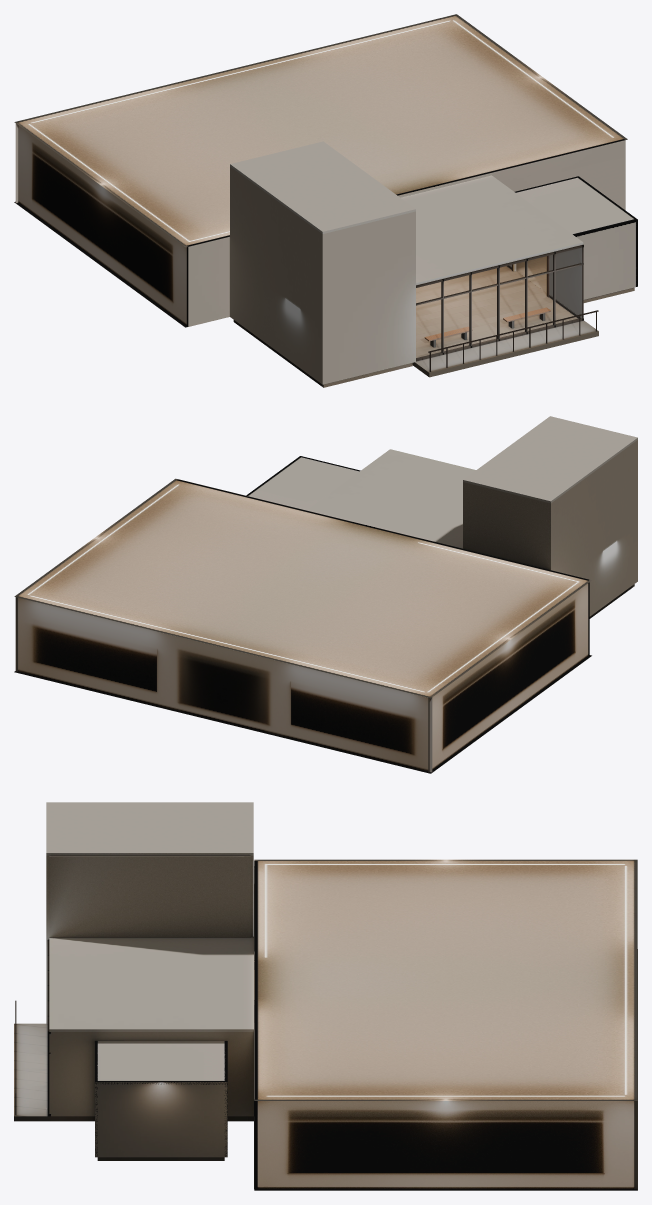
The model's file is hall-baked-mobile.glb.
3 views of the same model, one above another, from view 1: azimuth 30°, elevation 25°; view 2: azimuth 150°, elevation 25°; view 3: azimuth 270°, elevation 25° (orthographic). The views are drawn at different scales.
Parts seen in each view (by area): view 1: baked-ceiling, baked-stair, baked-foyer, baked-walls, baked-floor, baked-details; view 2: baked-ceiling, baked-walls, baked-stair, baked-foyer; view 3: baked-ceiling, baked-foyer, baked-walls, baked-stair.
Part boxes in pixels (x1,y1,x2,y2): baked-ceiling: (14,14,627,247); baked-stair: (230,141,415,387); baked-foyer: (400,175,637,377); baked-walls: (14,123,625,327); baked-floor: (412,266,577,365); baked-details: (424,307,550,347); baked-ceiling: (14,478,591,698); baked-walls: (14,479,591,773); baked-stair: (463,416,637,618); baked-foyer: (246,449,475,548); baked-ceiling: (254,859,637,1100); baked-foyer: (14,937,253,1160); baked-walls: (254,861,637,1190); baked-stair: (46,802,253,1023).
Bounding box in the file's own units: 24.32 × 8.26 × 26.52.
7 materials, 7 textured.
